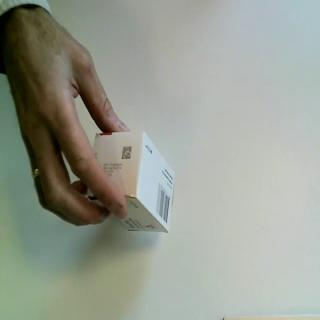morfin10mg: (87, 129, 177, 234)
